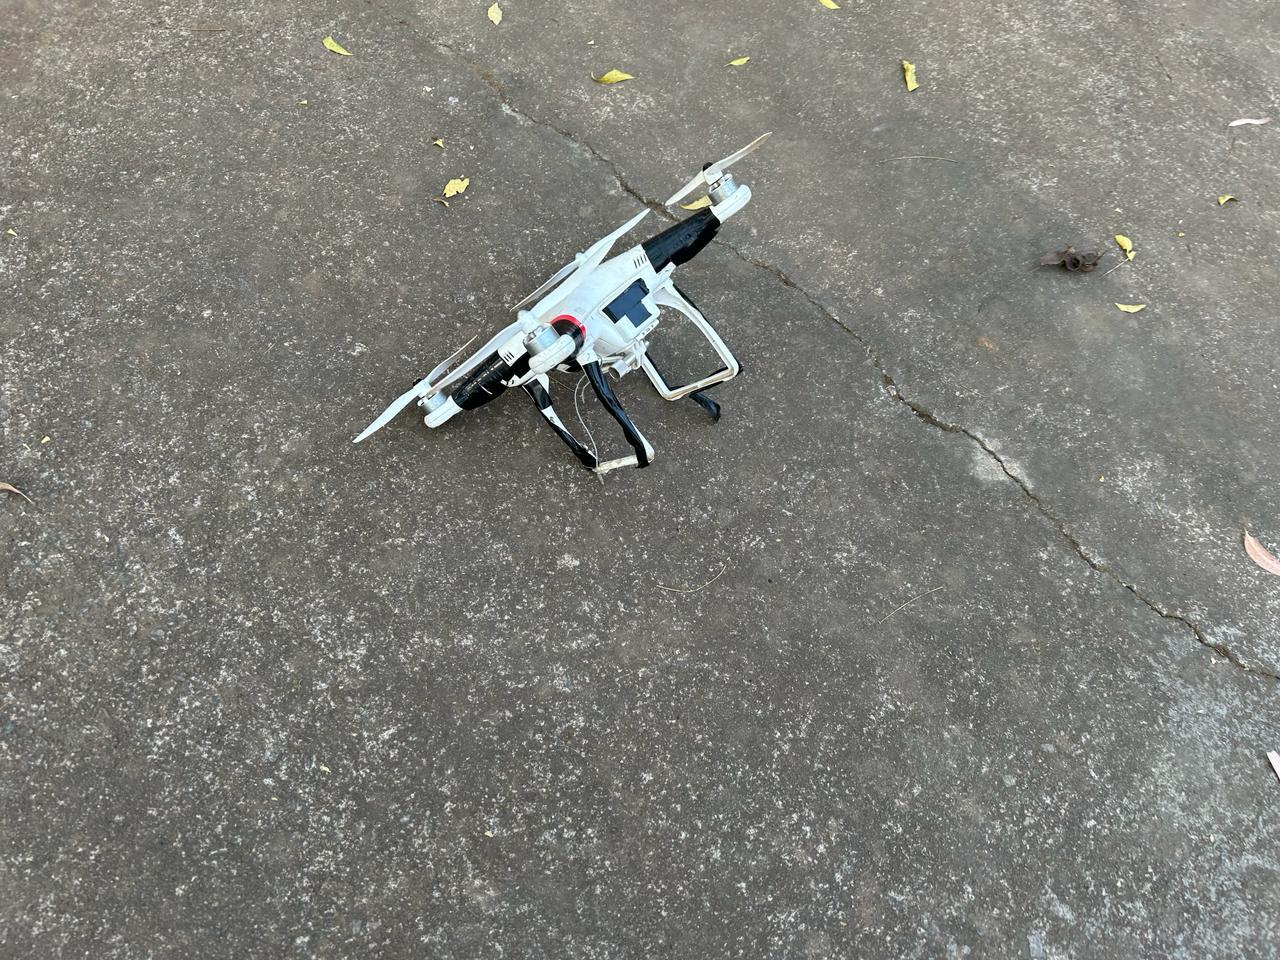drone: (347, 130, 775, 500)
